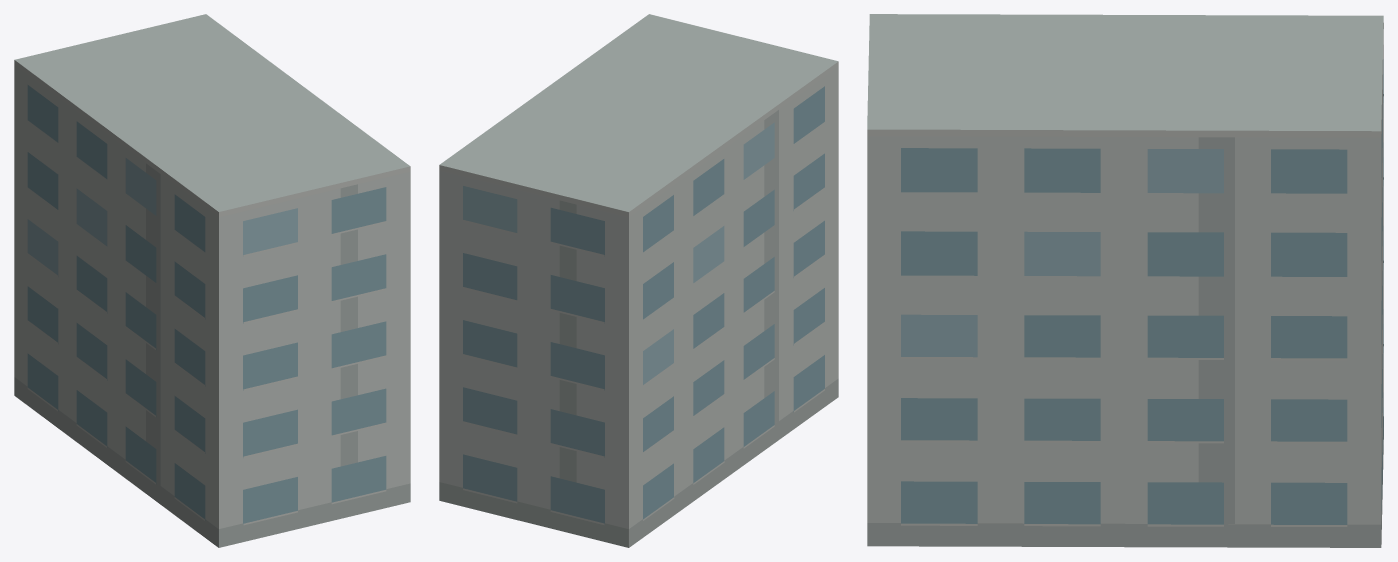
Rendered from survey-upis-32634213.glb.
3 renders of one model, left to right at view 1: azimuth 30°, elevation 25°; view 2: azimuth 150°, elevation 25°; view 3: azimuth 270°, elevation 25°, orthographic. The views are drawn at different scales.
Parts seen in each view (by area): view 1: survey-upis-32634213.tmp; view 2: survey-upis-32634213.tmp; view 3: survey-upis-32634213.tmp.
Part boxes in pixels (bbox=[...]): survey-upis-32634213.tmp: bbox=[14, 14, 410, 547]; survey-upis-32634213.tmp: bbox=[439, 14, 838, 547]; survey-upis-32634213.tmp: bbox=[867, 14, 1383, 547].
Size of the model in its own units: 9.2 by 15.25 by 17.15.
